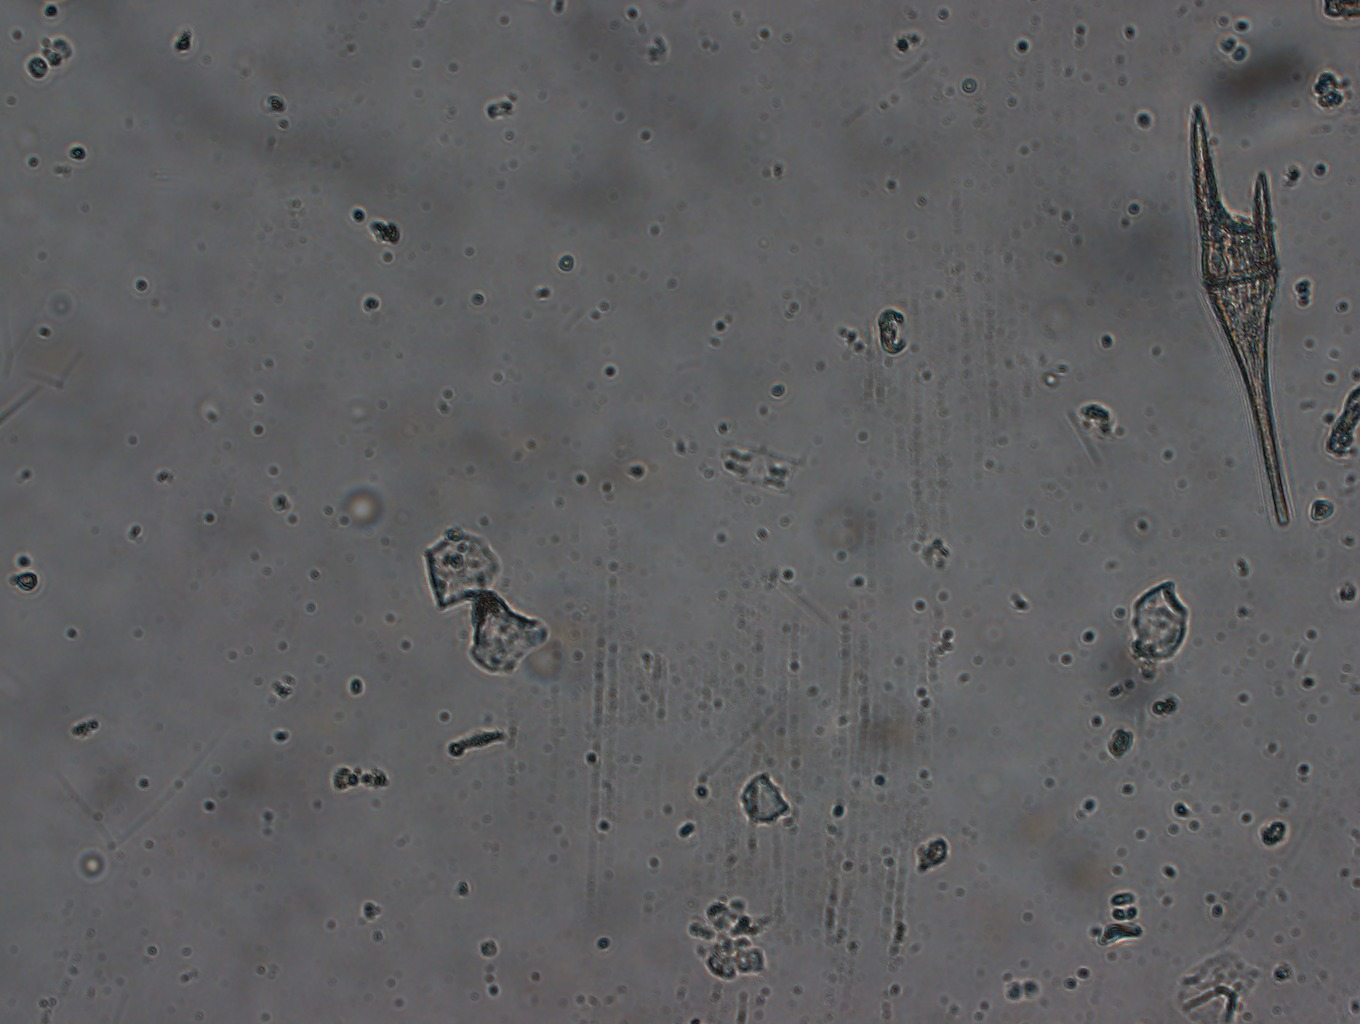ceratium furca: (1190, 103, 1307, 528)
